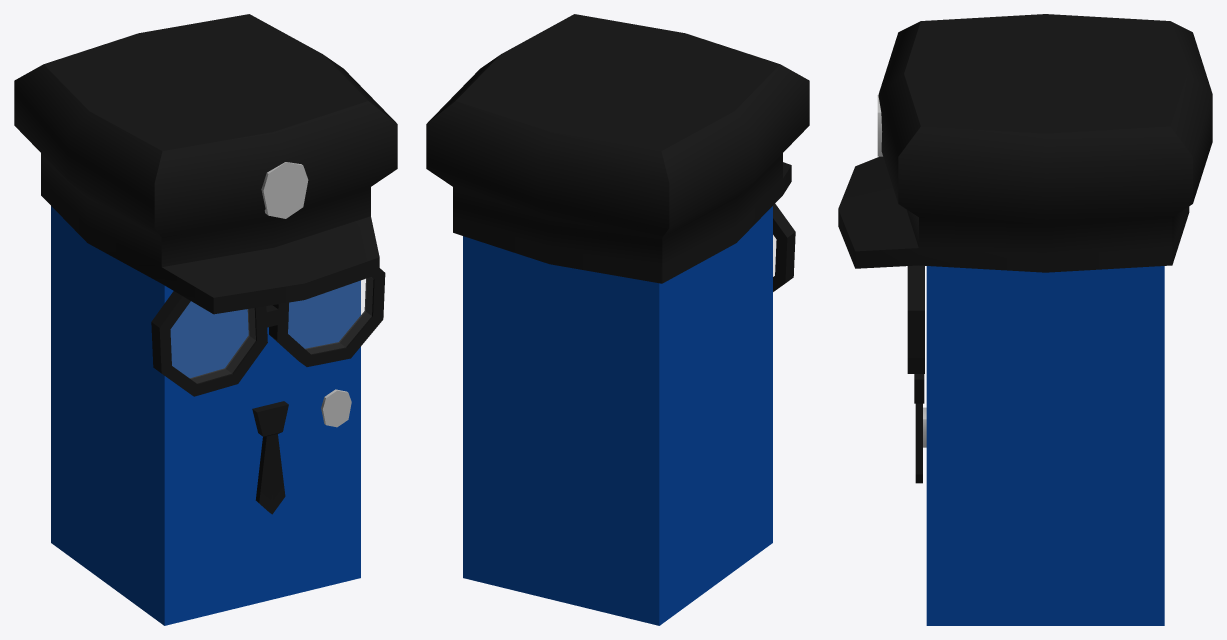
The model's file is Officer Strict.fbx.
The picture shows the model from 3 angles, left to right: view 1: azimuth 30°, elevation 25°; view 2: azimuth 150°, elevation 25°; view 3: azimuth 270°, elevation 25°; orthographic projection. The views are drawn at different scales.
Parts seen in each view (by area): view 1: pasted__pCube3, pCube8, pasted__pCylinder9, pasted__pCube15, pCube9, pCube10; view 2: pasted__pCube3, pCube8, pasted__pCylinder9; view 3: pasted__pCube3, pCube8, pasted__pCylinder9, pasted__pCube15.
Boxes of the visible parts, bbox=[...] form: pasted__pCube3: bbox=[51, 206, 360, 625]; pCube8: bbox=[14, 14, 397, 314]; pasted__pCylinder9: bbox=[151, 268, 385, 396]; pasted__pCube15: bbox=[252, 401, 288, 514]; pCube9: bbox=[261, 162, 308, 218]; pCube10: bbox=[321, 389, 351, 427]; pasted__pCube3: bbox=[463, 206, 772, 625]; pCube8: bbox=[426, 14, 809, 283]; pasted__pCylinder9: bbox=[773, 203, 795, 291]; pasted__pCube3: bbox=[926, 266, 1164, 625]; pCube8: bbox=[838, 14, 1212, 272]; pasted__pCylinder9: bbox=[907, 265, 924, 373]; pasted__pCube15: bbox=[914, 374, 924, 483].
Bounding box in the file's own units: 1.4 × 2.33 × 1.57.
